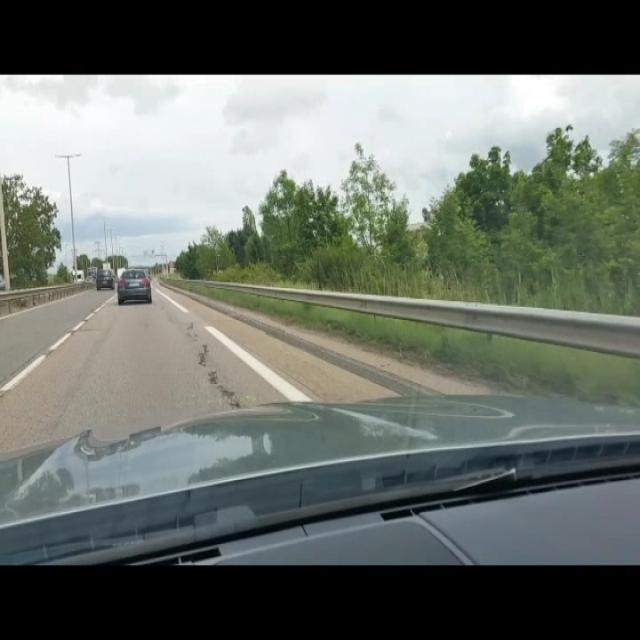direction: (142, 246, 156, 256)
